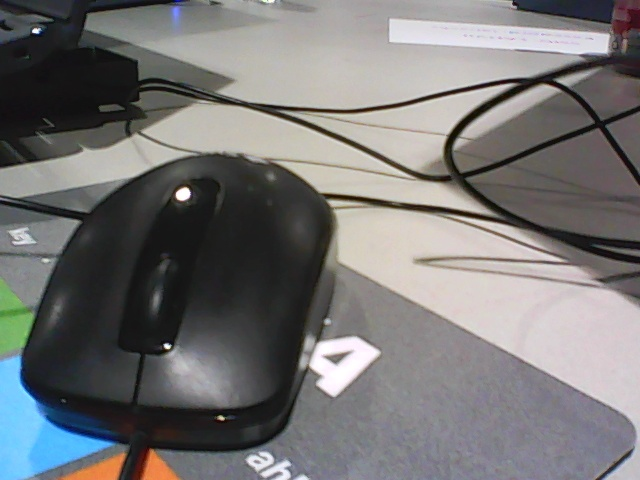mouse: (21, 153, 338, 452)
